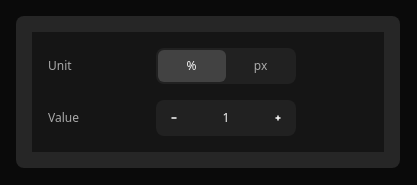
Test case: App › clamps value to 100 when switching to % unit with value > 100
The image size is (417, 185).
Click the button "px" at (260, 66), box [227,50,294,82]
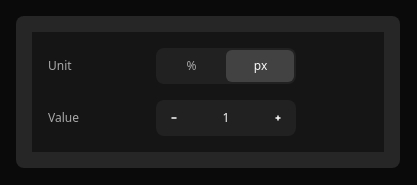
Expected: the text "px" has class "text-[#F9F9F9]", [254,56,267,76]
// Set value to 150 in px
Replace the text in the field with "150" at (226, 118), box [200,108,252,128]
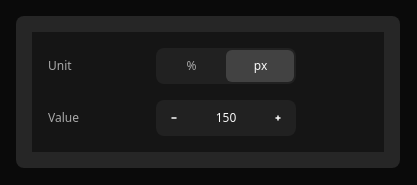
// Switch back to %
Click the button "%" at (192, 66), box [158,50,225,82]
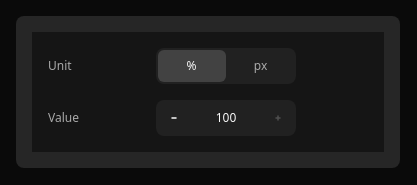
Expected: the field holds "100", [200,108,252,128]
